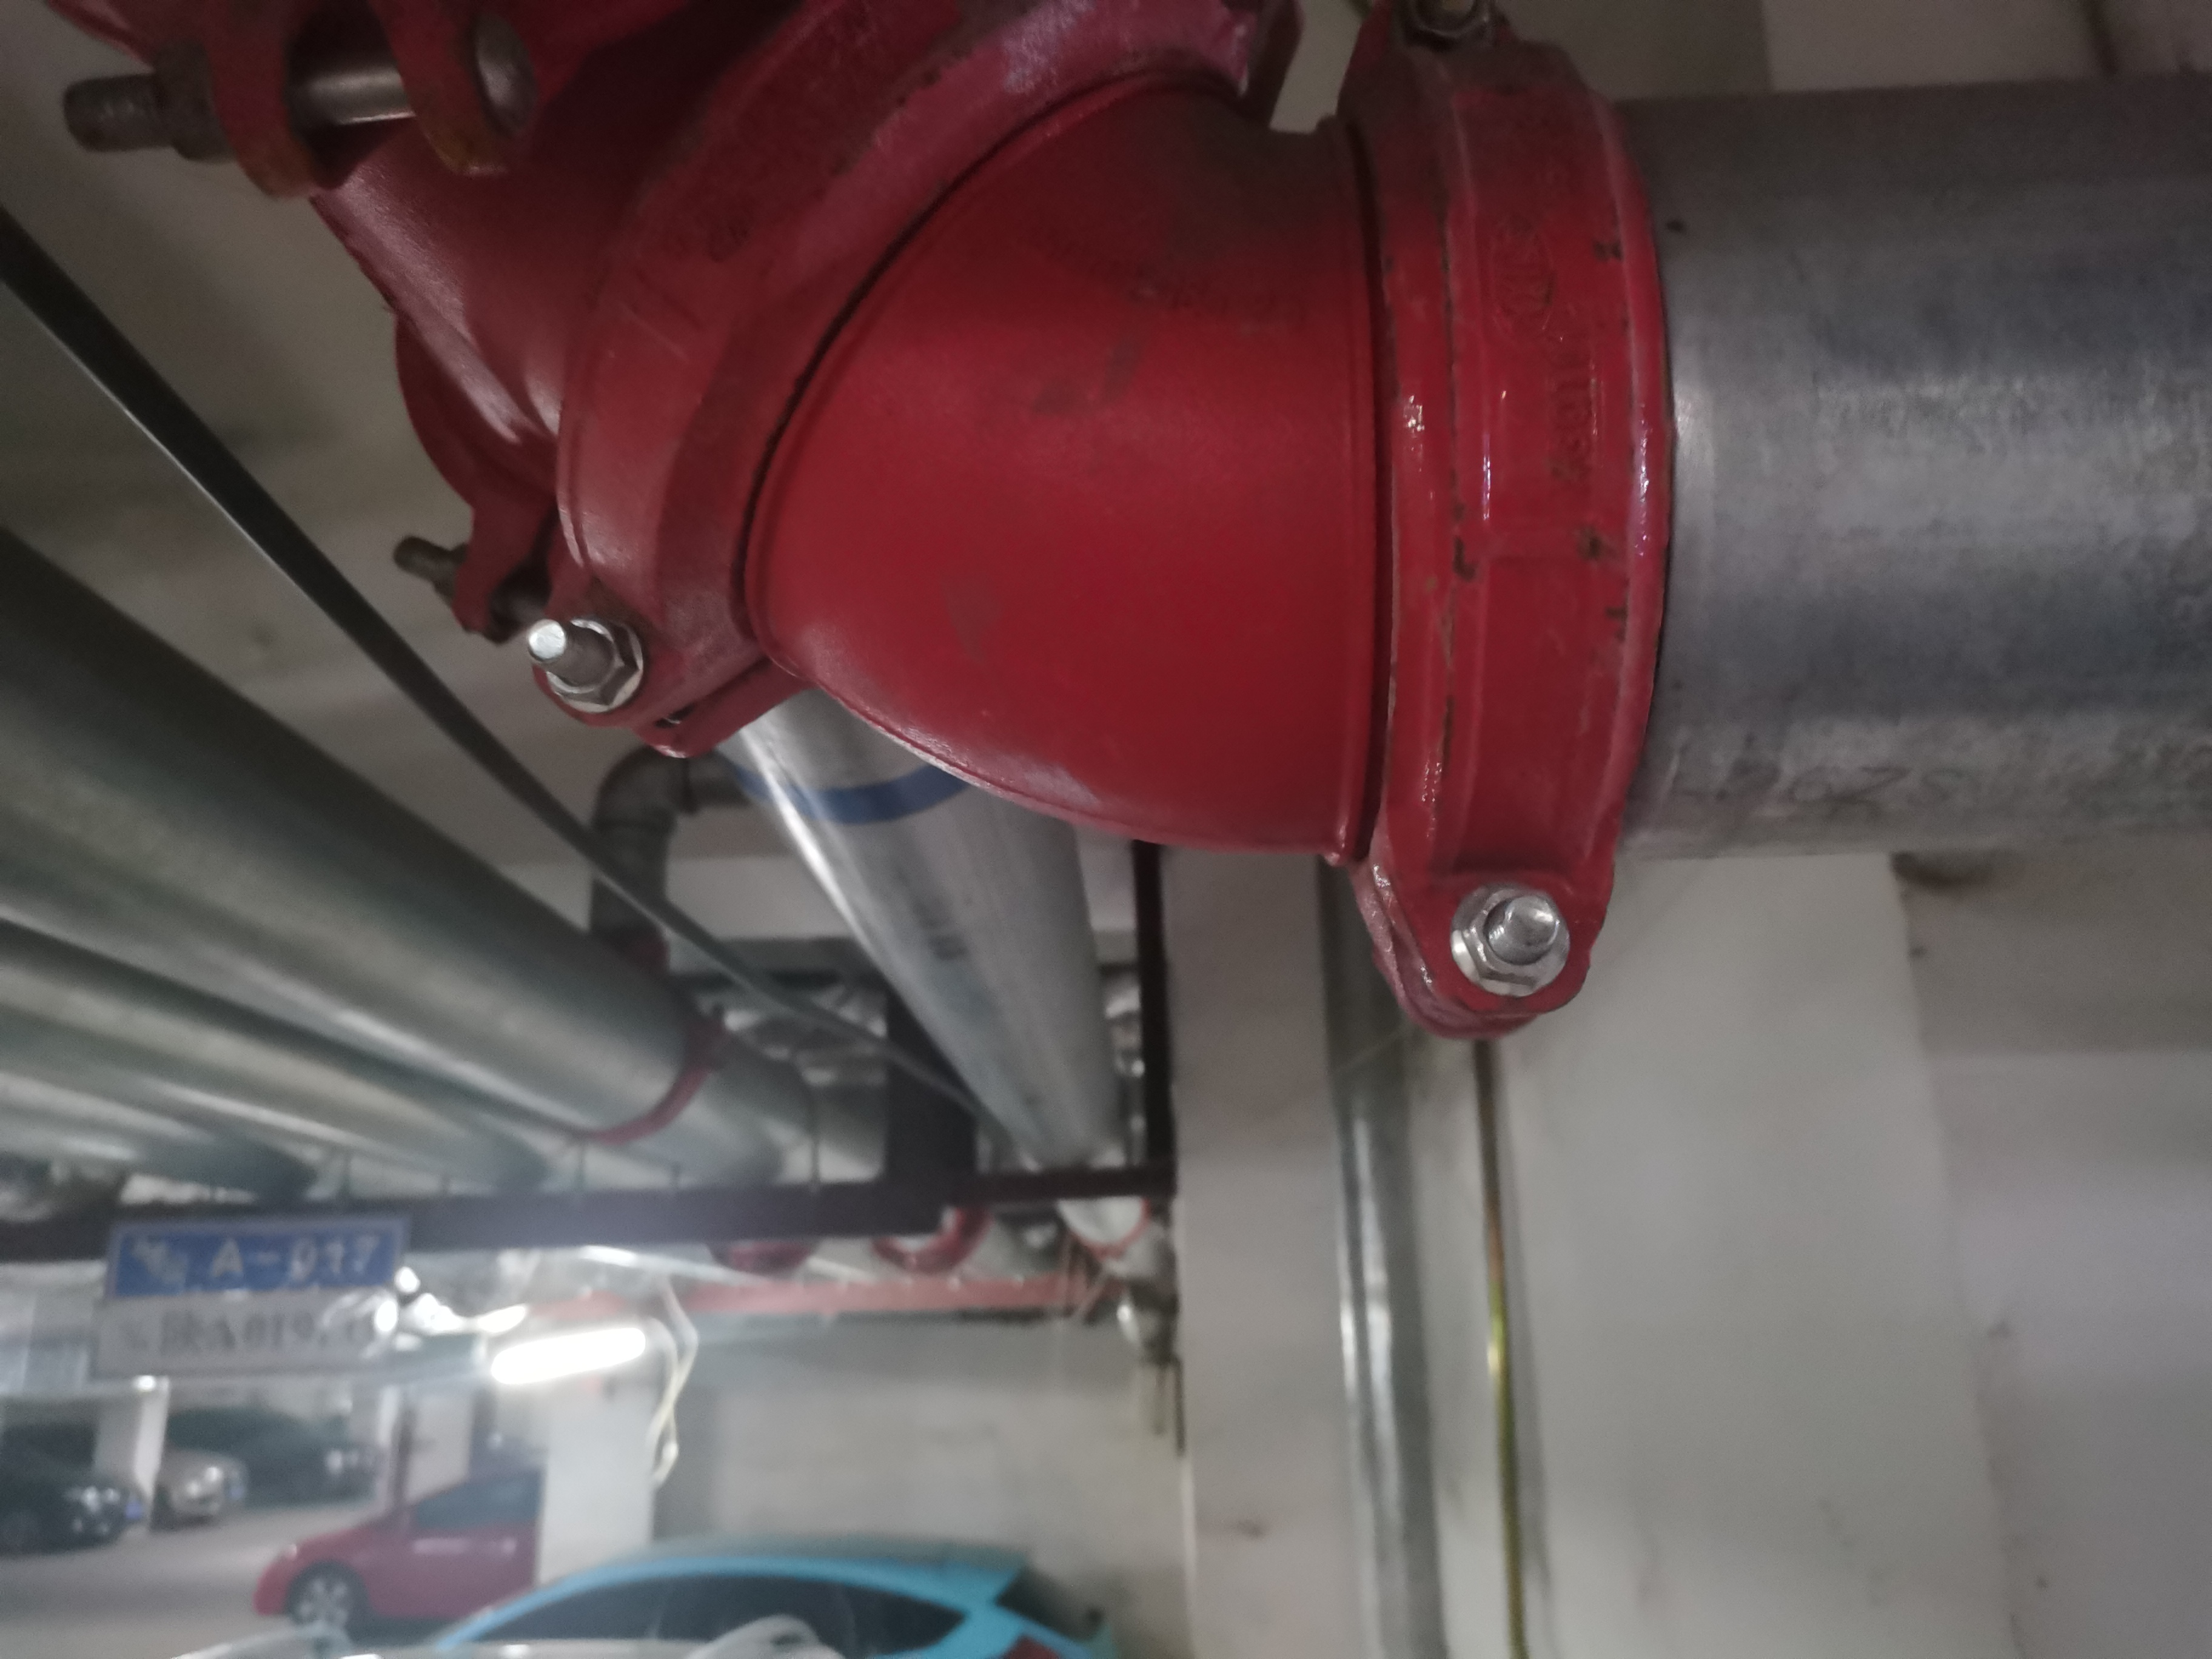bolt_b: (1458, 877, 1573, 992), (535, 608, 637, 711)
